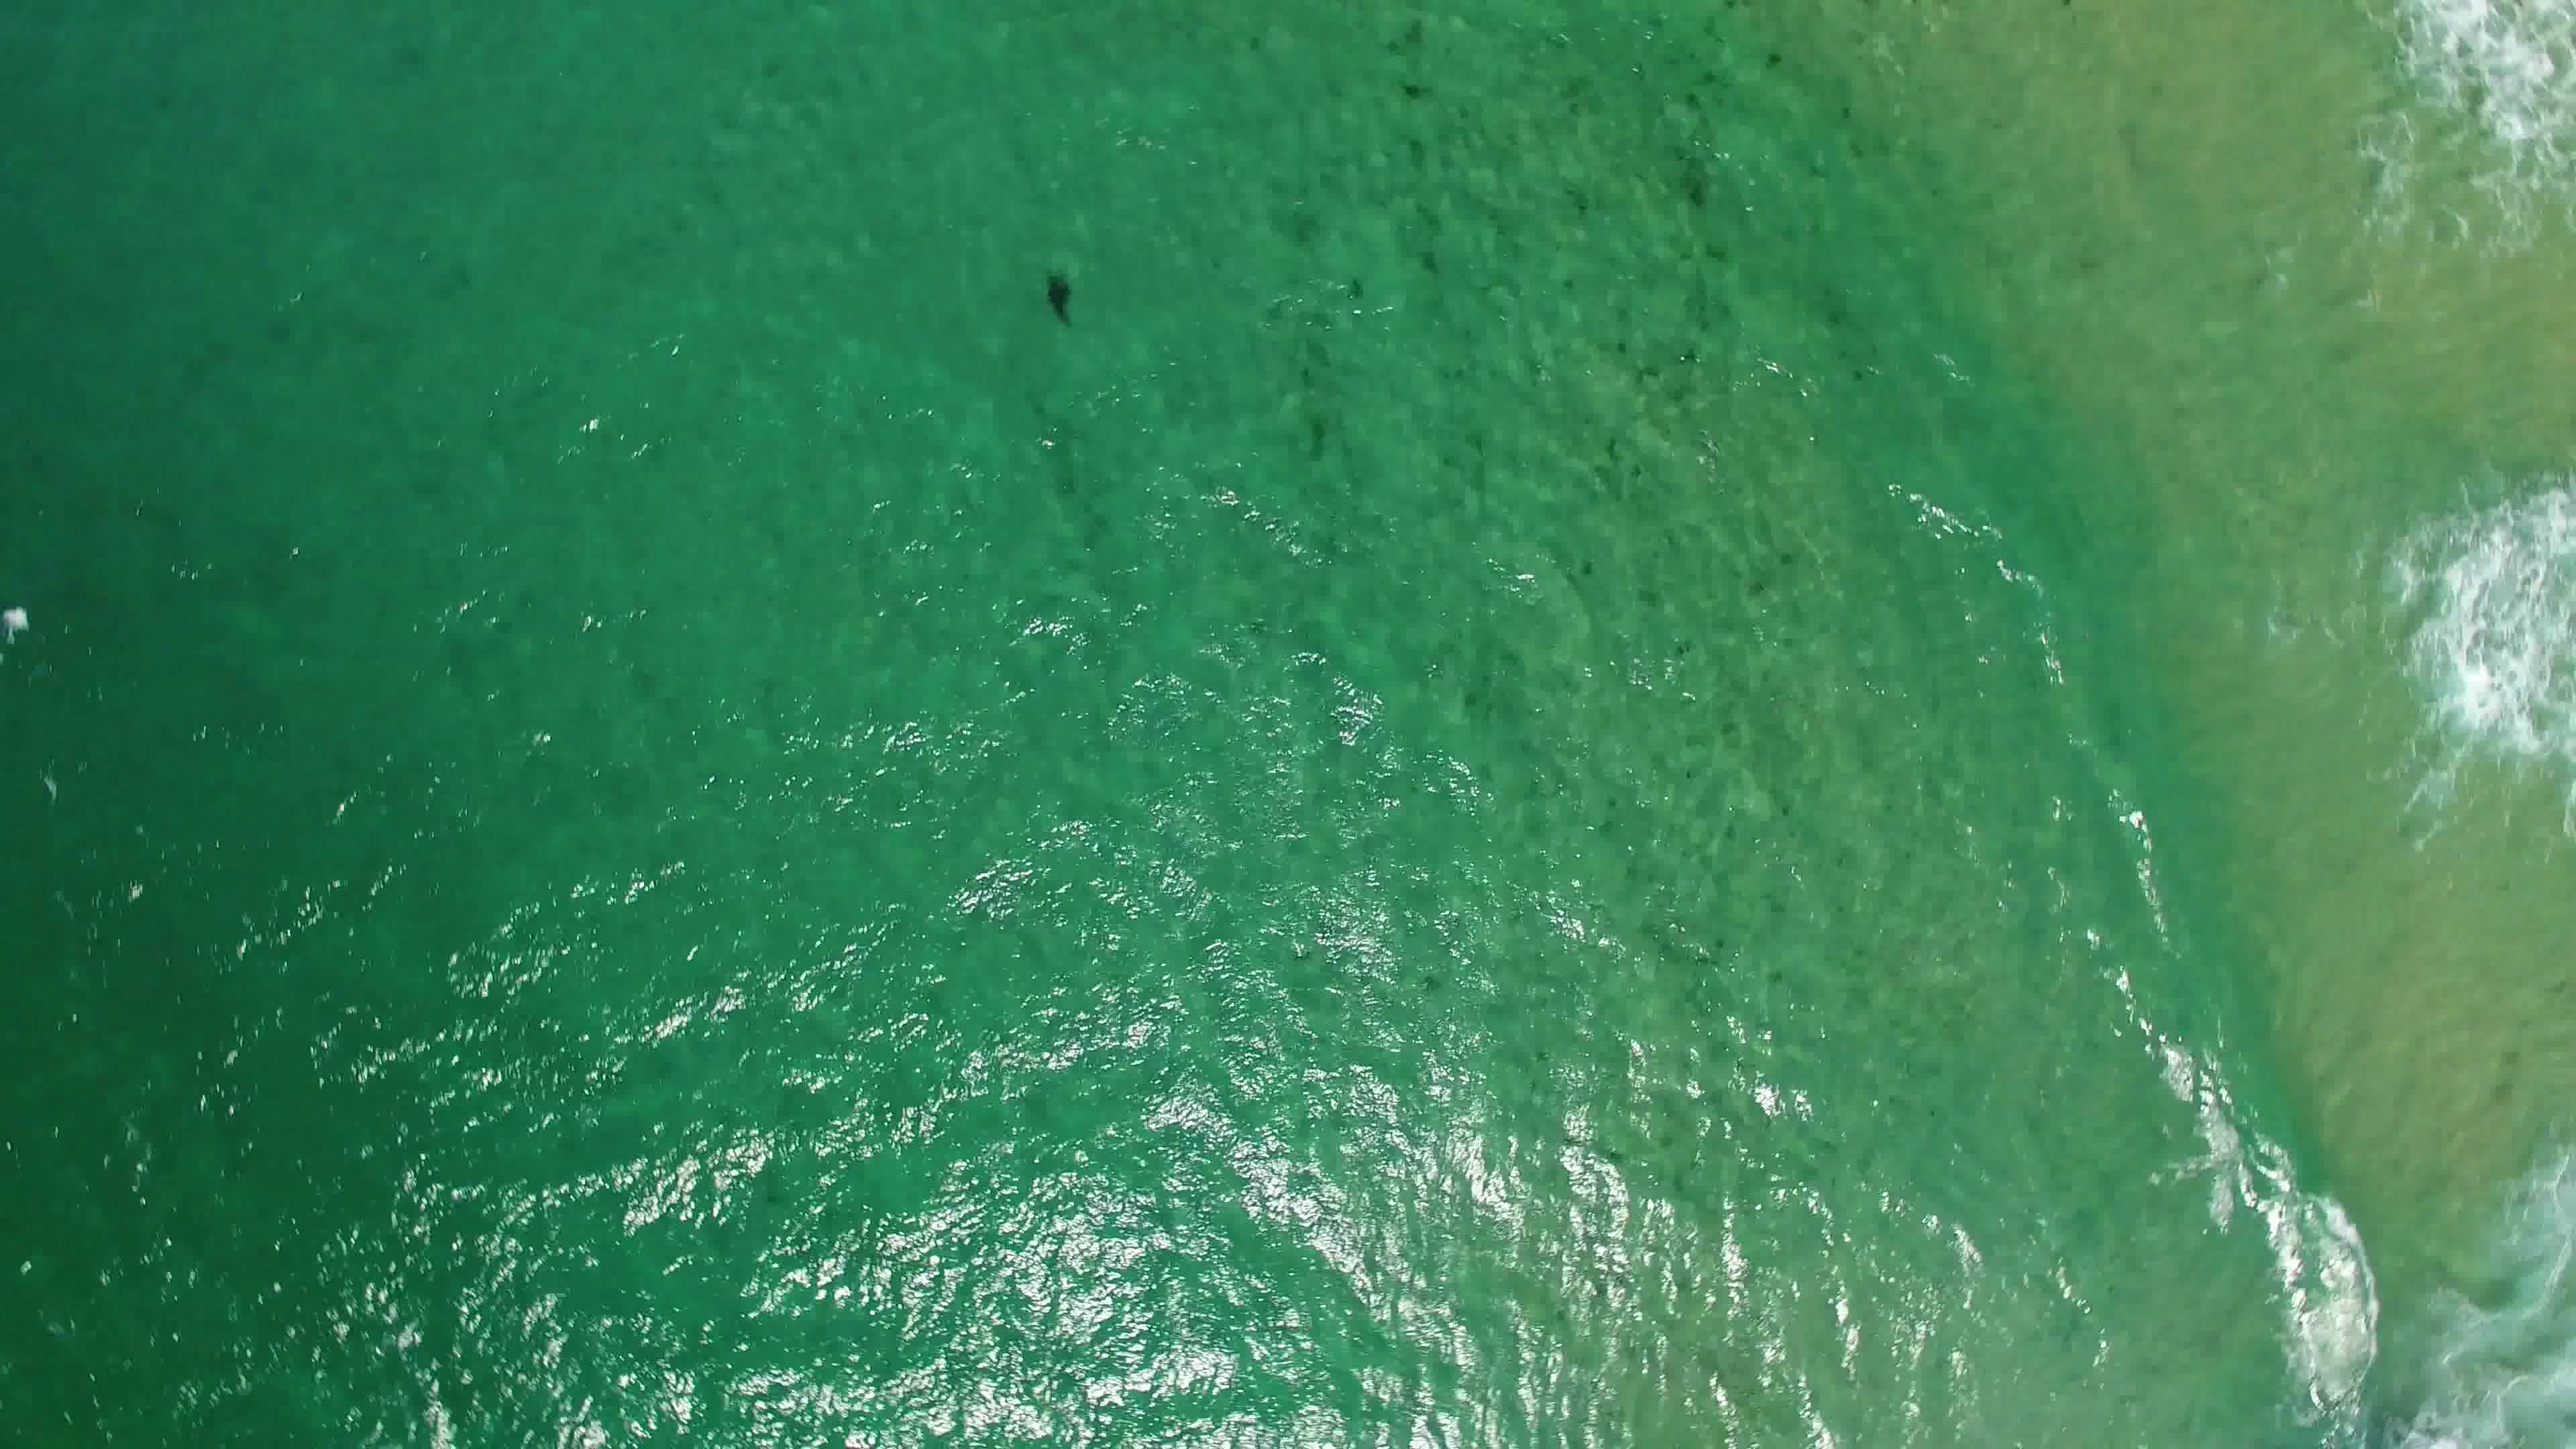shark: (1039, 264, 1086, 334)
